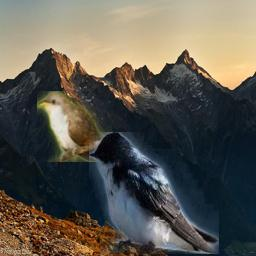Cuckoo: (37, 91, 133, 162)
Swallow: (89, 132, 219, 254)
